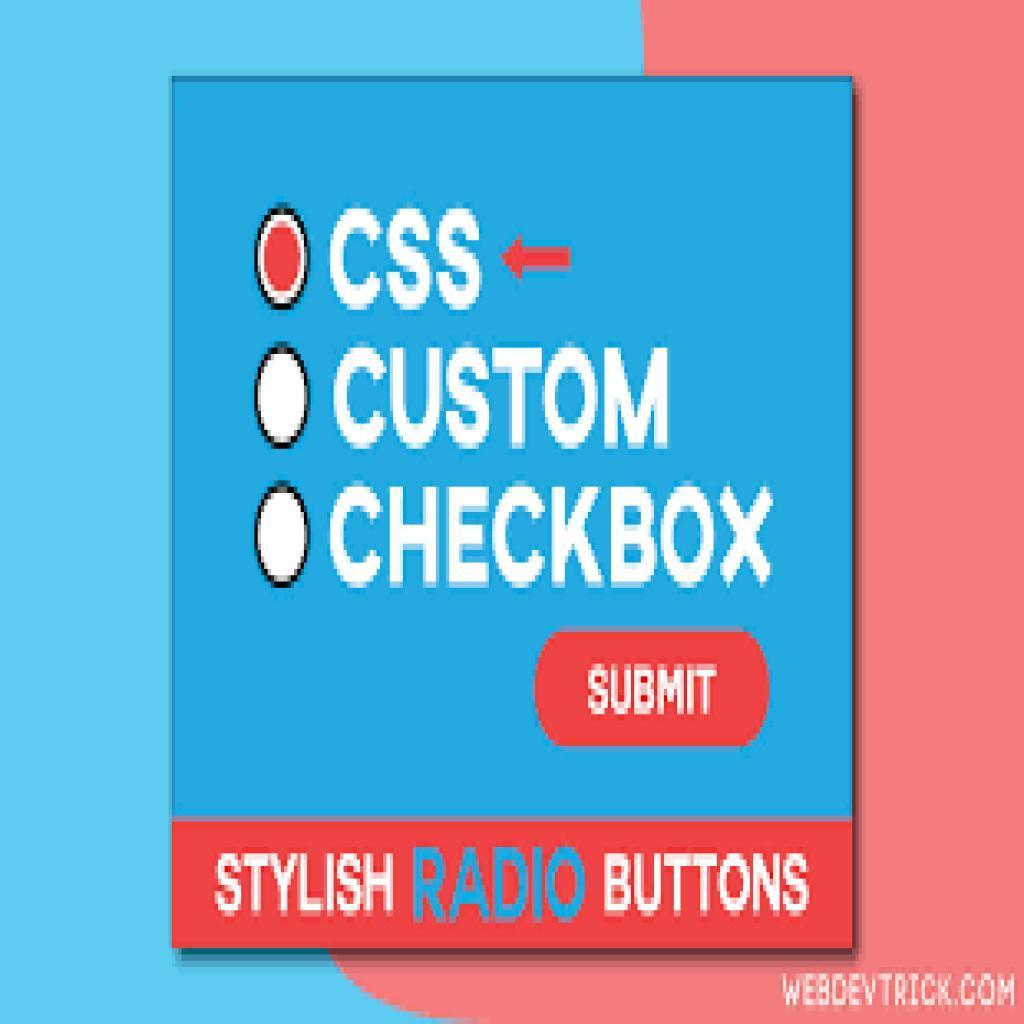button: (535, 626, 775, 748)
radio: (244, 330, 314, 460), (243, 480, 315, 596), (247, 197, 314, 320)
